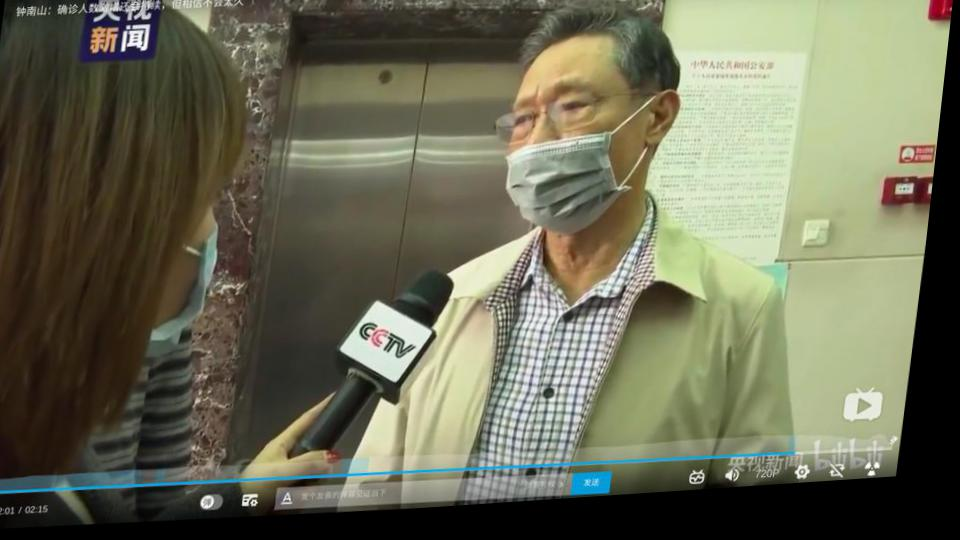WRONG: (501, 69, 640, 250)
